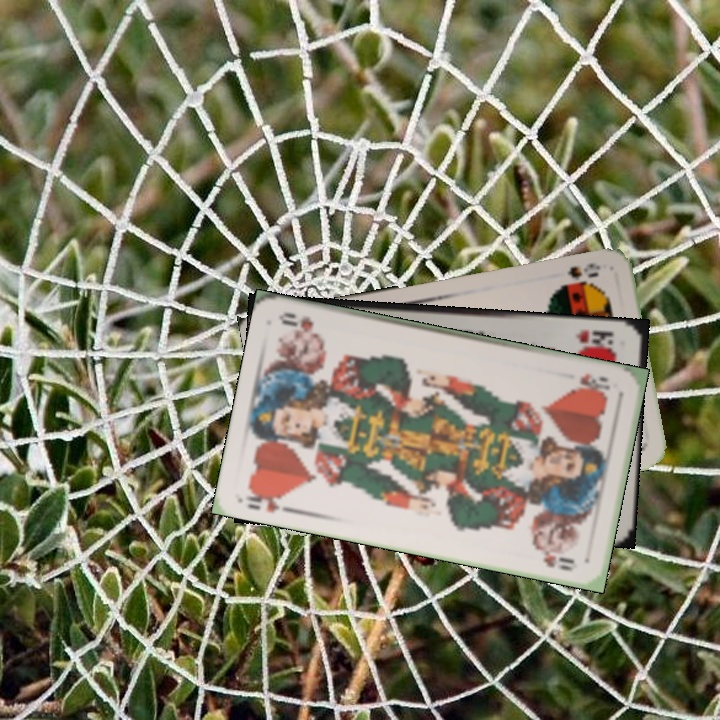HK: (571, 326, 617, 352)
HO: (241, 484, 298, 516), (575, 370, 613, 395)
SO: (556, 259, 603, 289)
